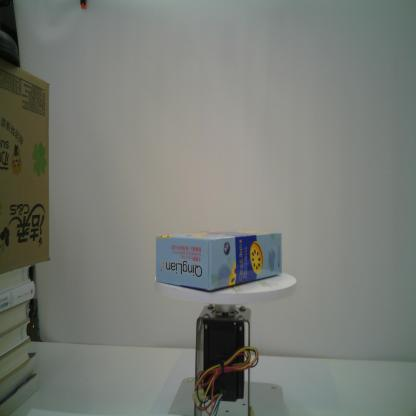Dessert: (154, 227, 283, 293)
